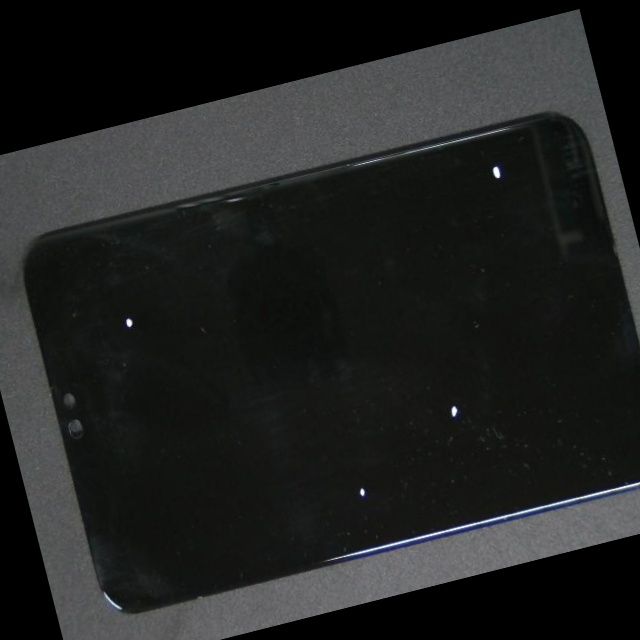stain: (198, 152, 640, 600), (164, 219, 550, 632), (213, 50, 624, 280), (45, 202, 208, 408)
